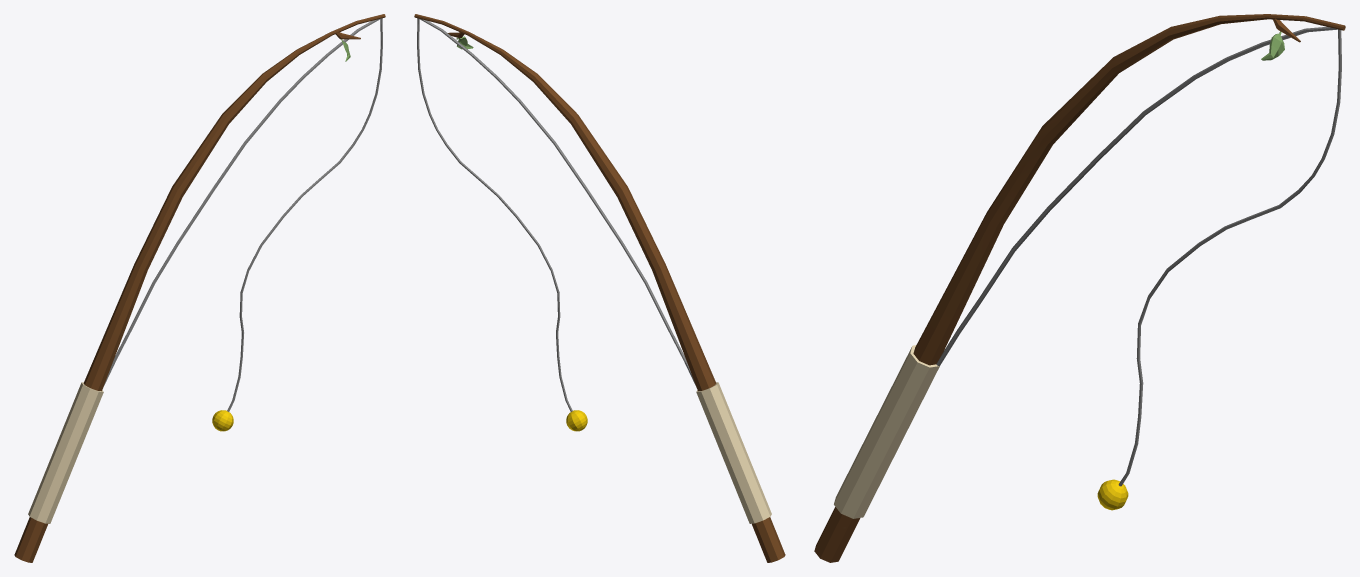
Rendered from fishing_rod.glb.
3 views of the same model, side by side, from view 1: azimuth 30°, elevation 25°; view 2: azimuth 150°, elevation 25°; view 3: azimuth 330°, elevation 25° (orthographic). The views are drawn at different scales.
Visible parts, largest first — view 1: pCylinder1, pCylinder2, pCylinder4, pCylinder5; view 2: pCylinder1, pCylinder2, pCylinder4, pCylinder5; view 3: pCylinder1, pCylinder2, pCylinder4, pCylinder5, pSphere1.
Boxes of the visible parts, x1,y1,x2,y2 form: pCylinder1: (14,14,385,562); pCylinder2: (28,382,103,523); pCylinder4: (103,18,381,387); pCylinder5: (227,18,382,411); pCylinder1: (414,14,785,562); pCylinder2: (696,382,771,523); pCylinder4: (419,18,696,387); pCylinder5: (417,18,572,411); pCylinder1: (814,14,1345,562); pCylinder2: (834,345,939,518); pCylinder4: (936,26,1337,365); pCylinder5: (1118,29,1341,486); pSphere1: (1097,479,1128,510).
Bounding box in the file's own units: 4.07 × 4.86 × 0.3032.
6 materials, 6 textured.
